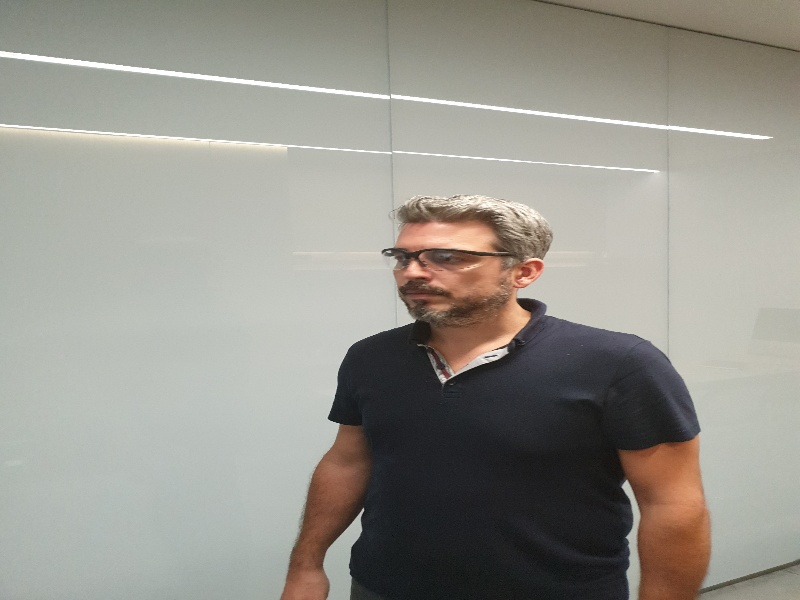Gozluk: (383, 247, 515, 271)
